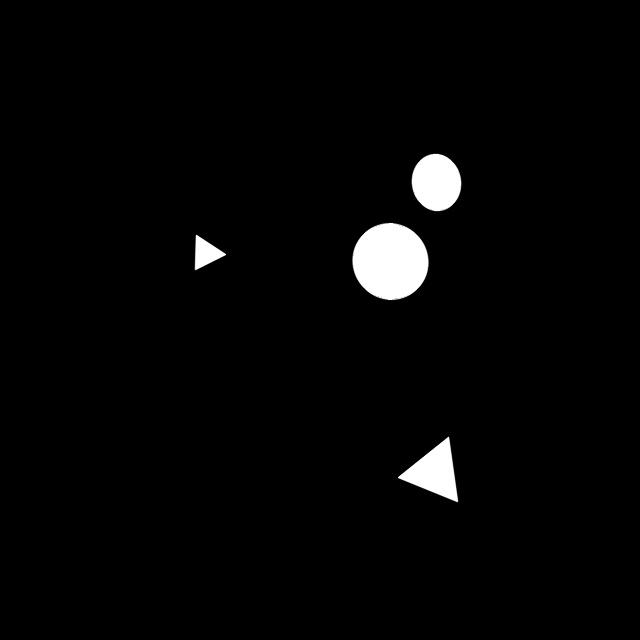Circle: (344, 214, 434, 310), (404, 145, 471, 219)
Triangle: (385, 424, 479, 517), (180, 224, 234, 290)
